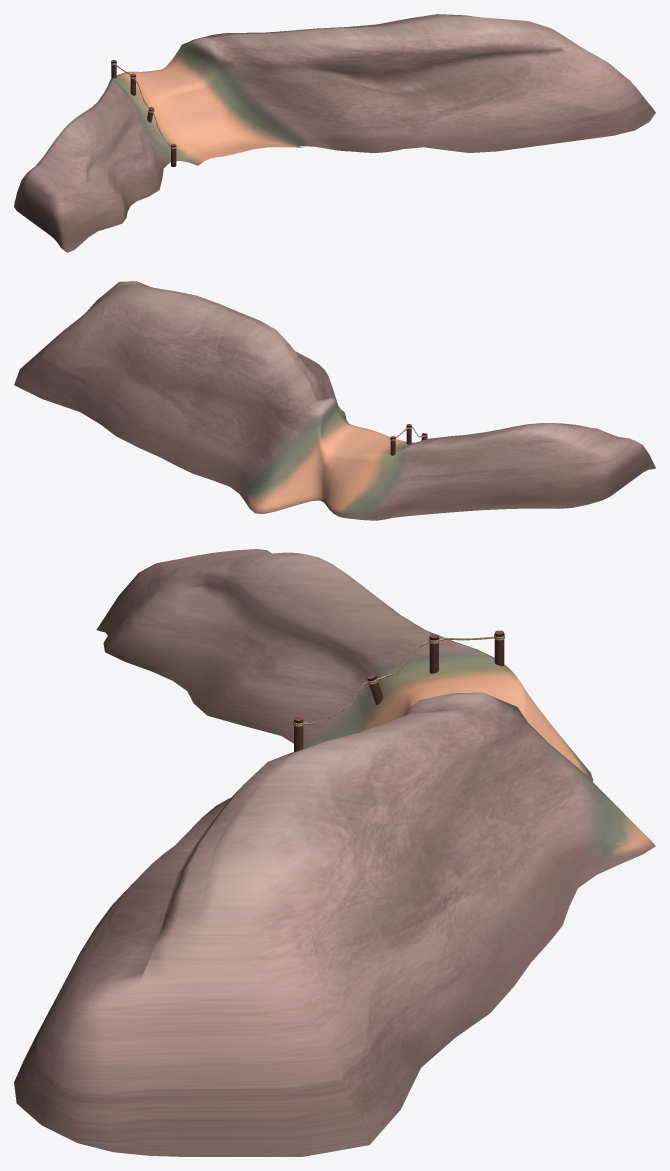
The model's file is Heuvel.fbx.
3 views of the same model, one above another, from view 1: azimuth 30°, elevation 25°; view 2: azimuth 150°, elevation 25°; view 3: azimuth 270°, elevation 25° (orthographic). The views are drawn at different scales.
Visible parts, largest first — view 1: polySurface9; view 2: polySurface9; view 3: polySurface9.
Boxes of the visible parts, x1,y1,x2,y2 form: polySurface9: (14, 14, 655, 252); polySurface9: (14, 281, 655, 520); polySurface9: (14, 549, 655, 1156).
Bounding box in the file's own units: 33.11 × 5.25 × 17.06.
3 materials, 3 textured.
